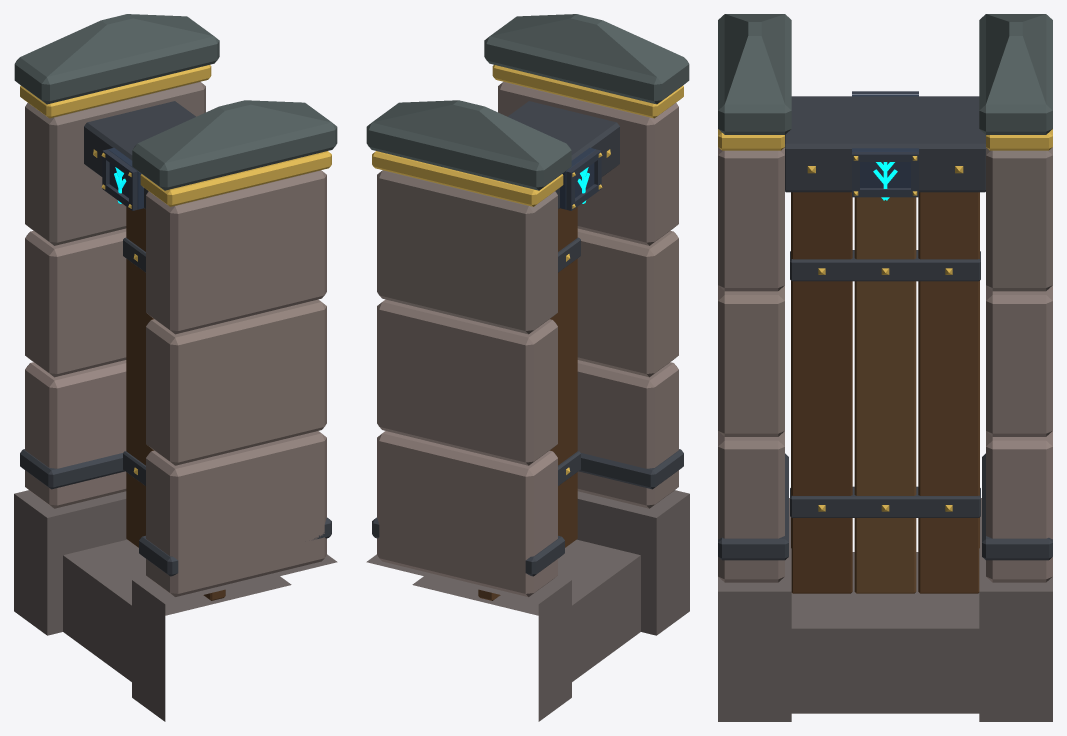
The model's file is wall_gate.glb.
3 views of the same model, side by side, from view 1: azimuth 30°, elevation 25°; view 2: azimuth 150°, elevation 25°; view 3: azimuth 270°, elevation 25° (orthographic). The views are drawn at different scales.
Visible parts, largest first — view 1: body, door; view 2: body, door; view 3: body, door.
Part boxes in pixels (<box>): body: <box>14,14,337,721</box>; door: <box>123,207,225,600</box>; body: <box>366,14,689,721</box>; door: <box>478,207,580,600</box>; body: <box>718,14,1052,721</box>; door: <box>790,192,980,593</box>.
Size of the model in its own units: 0.68 by 2.13 by 1.
